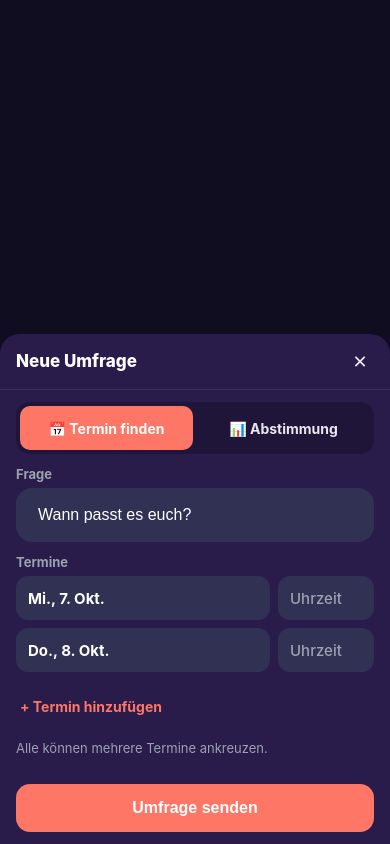
Test: PollComposerSheet › "+ Termin hinzufügen" continues after the last date
Click the button "+ Termin hinzufügen".
click(91, 706)  # box [16,684,166,728]
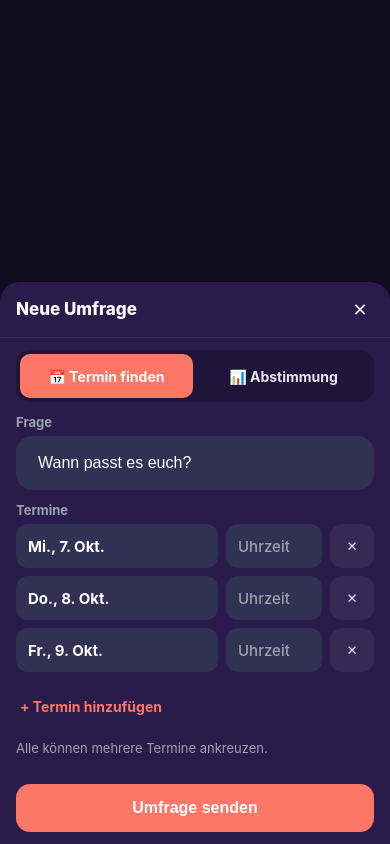
Now the element named "Datum für Termin 3" holds "2026-10-09", box [16,628,218,672]
